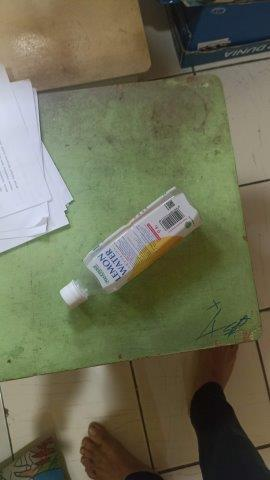botolplastik: (59, 185, 204, 308)
kertas: (1, 58, 75, 254)
